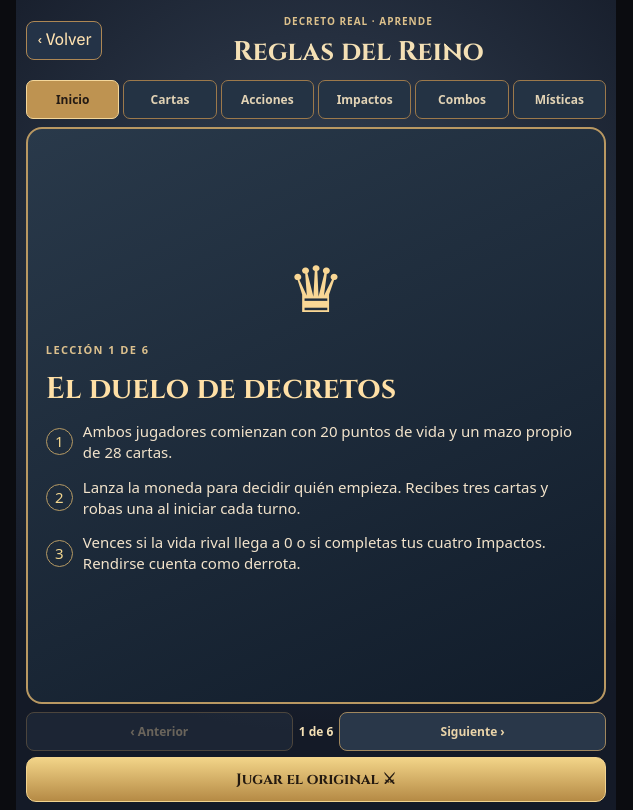
Scenario: rules describe the current 20 HP and 28 card duel with x2 and x3
Expected: the text "20 puntos de vida y un mazo propio de 28 cartas" is shown, [83,421,572,462]
Click the button "Cartas". click: x=170, y=100
box: [123,80,217,119]
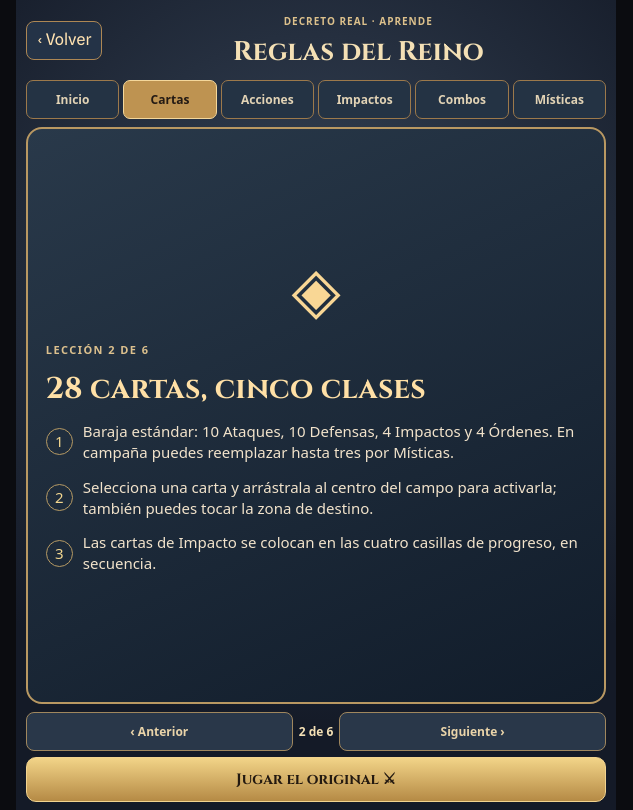
Result: the text "4 Órdenes" is shown at [83,421,574,462]
Click the button "Acciones". click: x=267, y=100
box: [221,80,314,119]
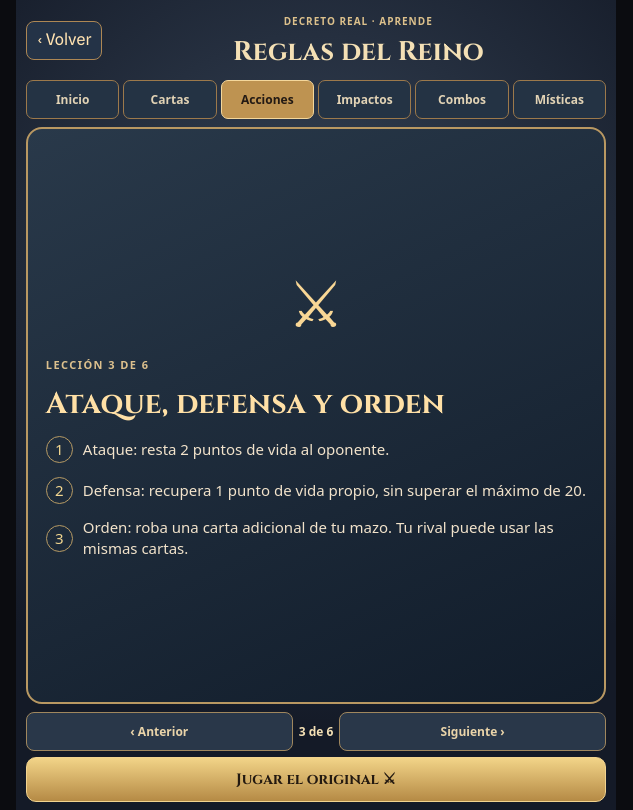
Result: the text "Orden: roba una carta adicional" is shown at [83,518,554,558]
Click the button "Combos". click: x=462, y=100
box: [415,80,509,119]
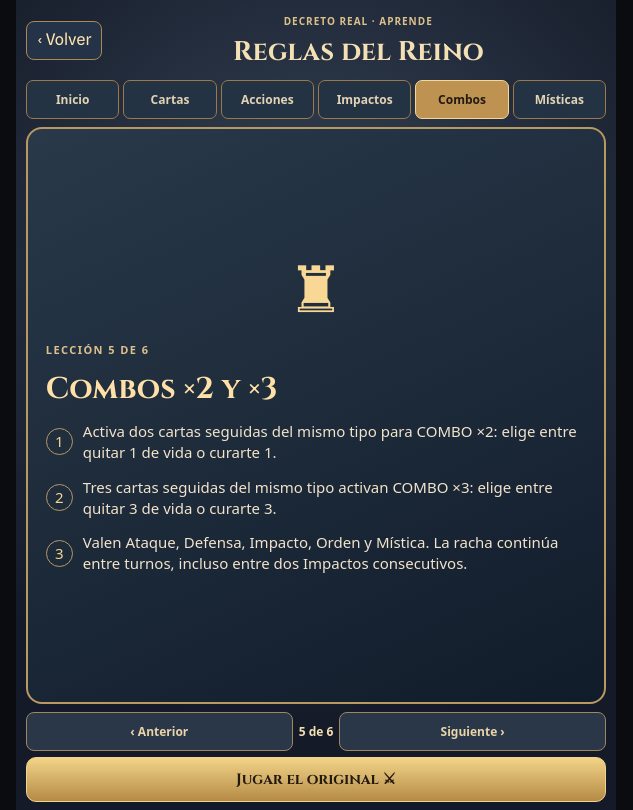
Result: the text "COMBO ×2" is shown at [83,421,577,462]
Result: the text "COMBO ×3" is shown at [83,477,553,518]
Click the button "Místicas". click: x=559, y=100
box: [513,80,606,119]
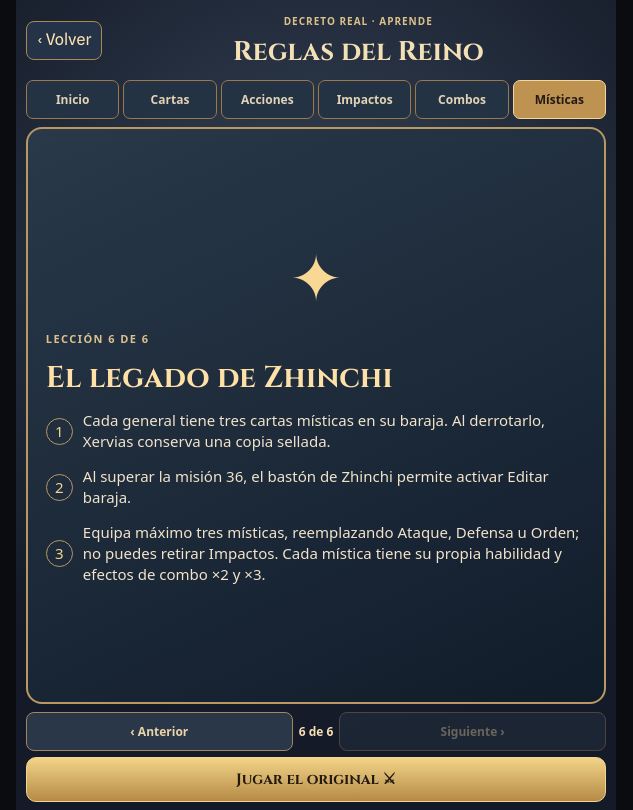
Result: the text "misión 36" is shown at [83,466,549,507]
